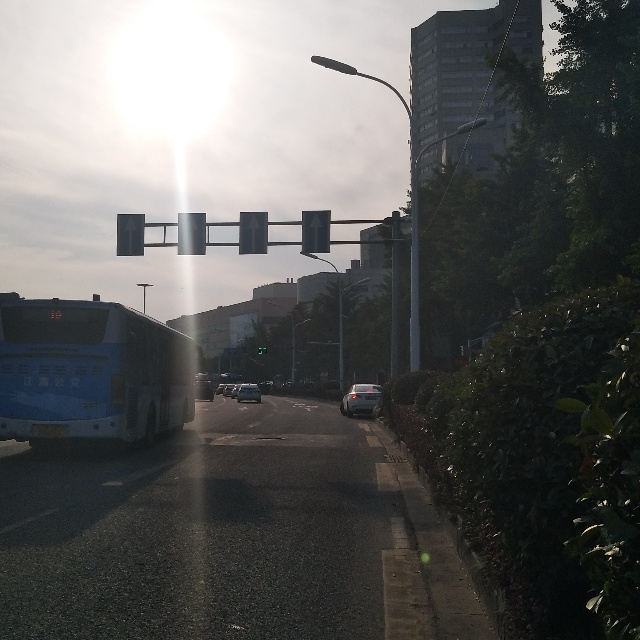straight: (302, 209, 330, 254), (117, 214, 145, 257), (241, 212, 269, 255), (177, 213, 204, 255)
